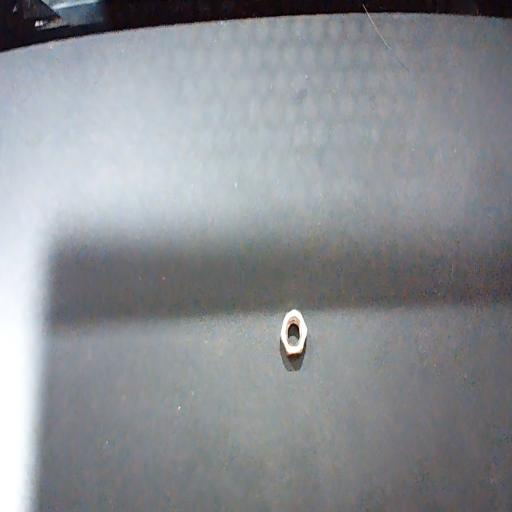nut: (280, 309, 307, 360)
